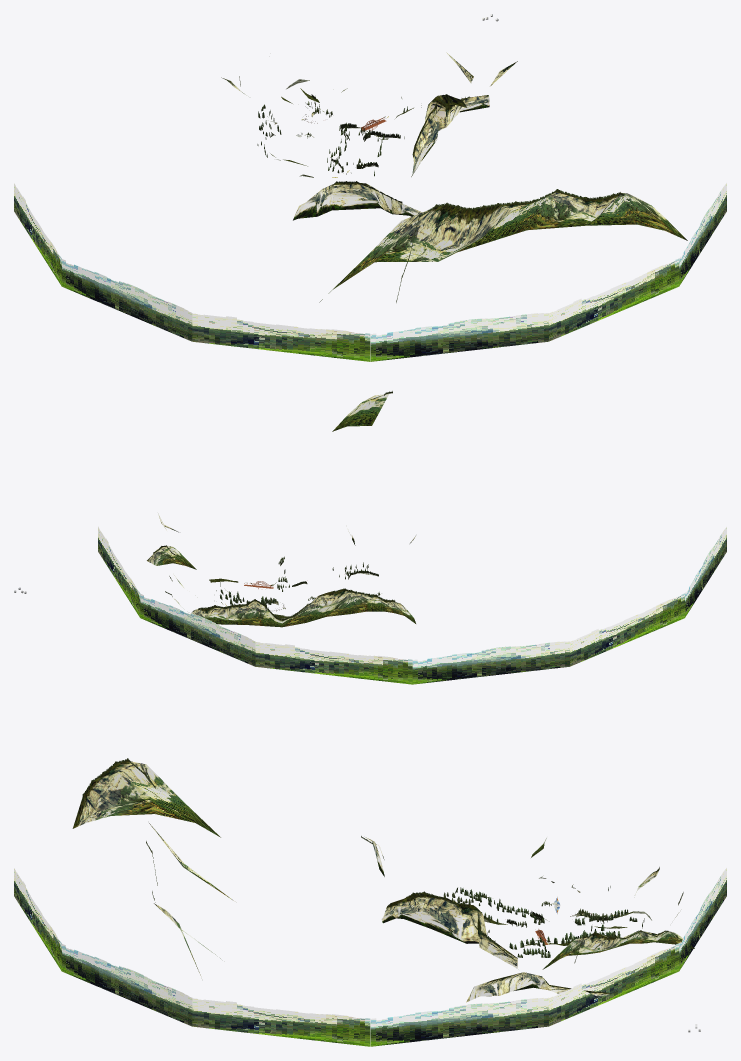
File: track-US_C3_V1_env.glb
3 renders of one model, top to bottom at view 1: azimuth 30°, elevation 25°; view 2: azimuth 150°, elevation 25°; view 3: azimuth 270°, elevation 25°, orthographic. The views are drawn at different scales.
Parts seen in each view (by area): view 1: US_C3_V1_env; view 2: US_C3_V1_env; view 3: US_C3_V1_env.
Boxes of the visible parts, x1,y1,x2,y2 form: US_C3_V1_env: (14, 14, 726, 361); US_C3_V1_env: (14, 391, 726, 684); US_C3_V1_env: (14, 758, 726, 1046).
Size of the model in its own units: 7037 by 1185 by 7037.
54 materials, 53 textured.
